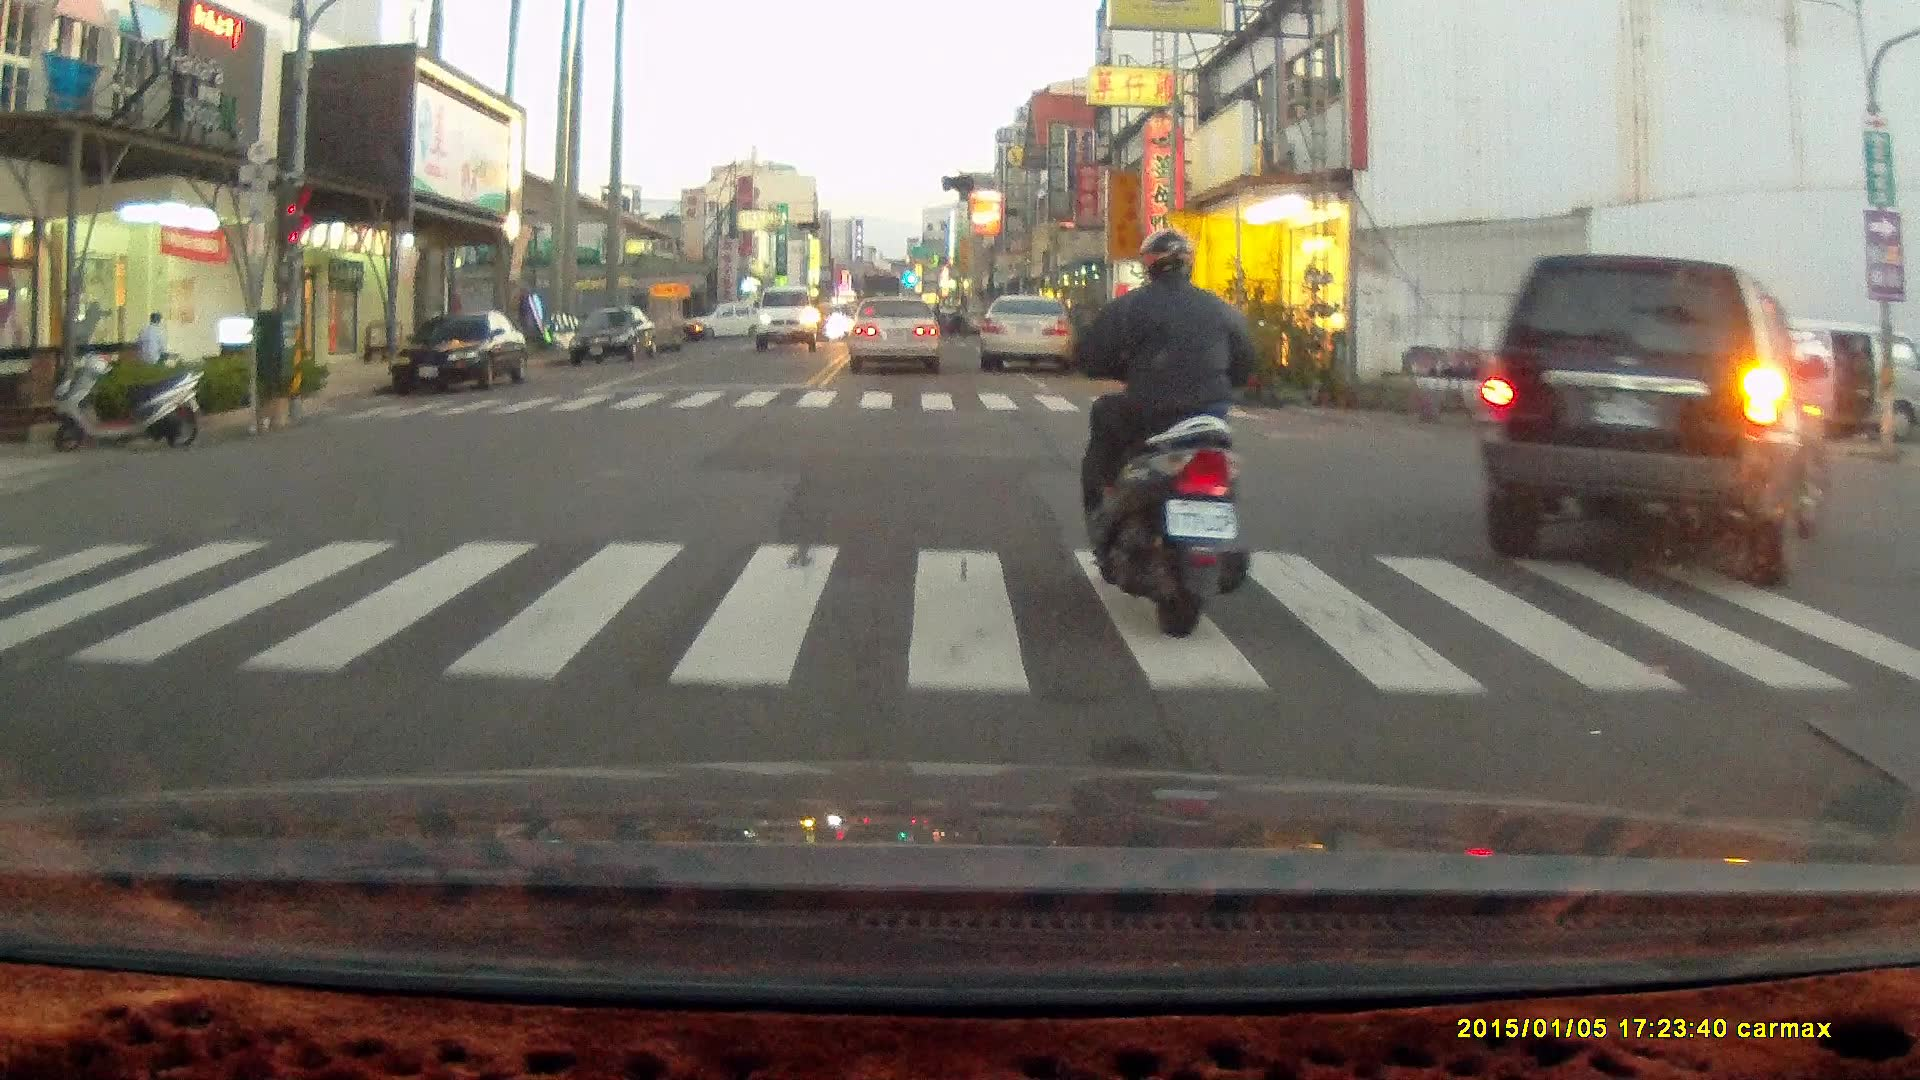pedestrian: (134, 307, 171, 376), (1848, 342, 1873, 433)
rider: (1068, 228, 1247, 635)
vehicle: (1478, 258, 1821, 585), (1725, 316, 1920, 443), (393, 311, 526, 404), (977, 295, 1083, 375), (847, 295, 942, 371), (567, 299, 658, 361), (756, 286, 821, 354)
